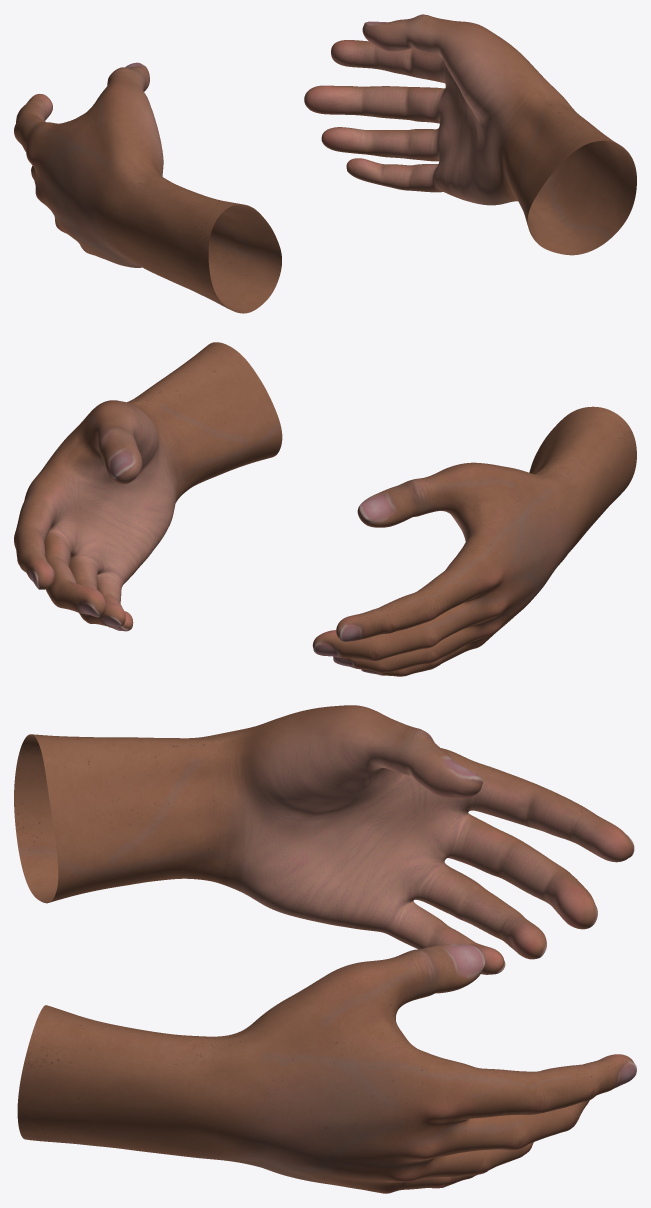
Rendered from hands.glb.
The picture shows the model from 3 angles, top to bottom: view 1: azimuth 30°, elevation 25°; view 2: azimuth 150°, elevation 25°; view 3: azimuth 270°, elevation 25°; orthographic projection. The views are drawn at different scales.
Visible parts, largest first — view 1: Hands_Low:Group52896; view 2: Hands_Low:Group52896; view 3: Hands_Low:Group52896.
Part boxes in pixels (x1,y1,x2,y2): Hands_Low:Group52896: (14, 14, 636, 313); Hands_Low:Group52896: (14, 342, 636, 676); Hands_Low:Group52896: (14, 705, 636, 1193).
Bounding box in the file's own units: 2.62 × 1.08 × 2.26.
1 material, 1 textured.
